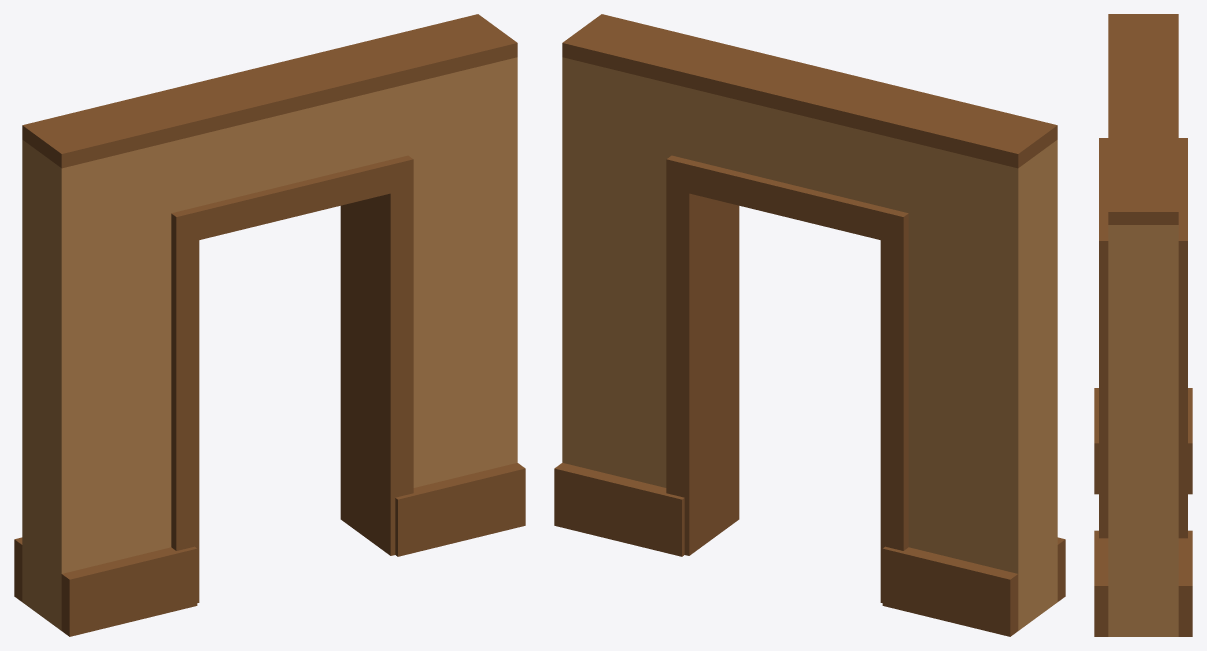
File: wall-door.glb
The picture shows the model from 3 angles, left to right: view 1: azimuth 30°, elevation 25°; view 2: azimuth 150°, elevation 25°; view 3: azimuth 270°, elevation 25°; orthographic projection. The views are drawn at different scales.
Visible parts, largest first — view 1: wall-door; view 2: wall-door; view 3: wall-door.
Boxes of the visible parts, x1,y1,x2,y2 form: wall-door: [14, 14, 525, 636]; wall-door: [554, 14, 1065, 636]; wall-door: [1094, 14, 1192, 636].
Bounding box in the file's own units: 1 × 1 × 0.21.
1 material, 1 textured.
